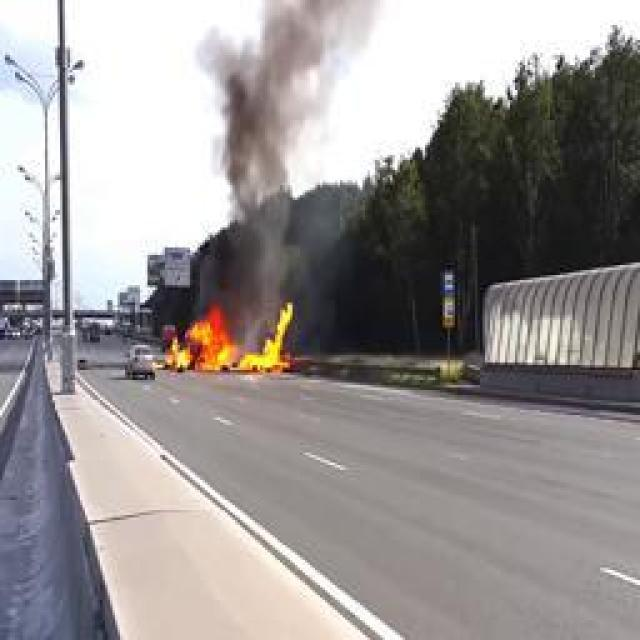Fire: (166, 302, 292, 372)
